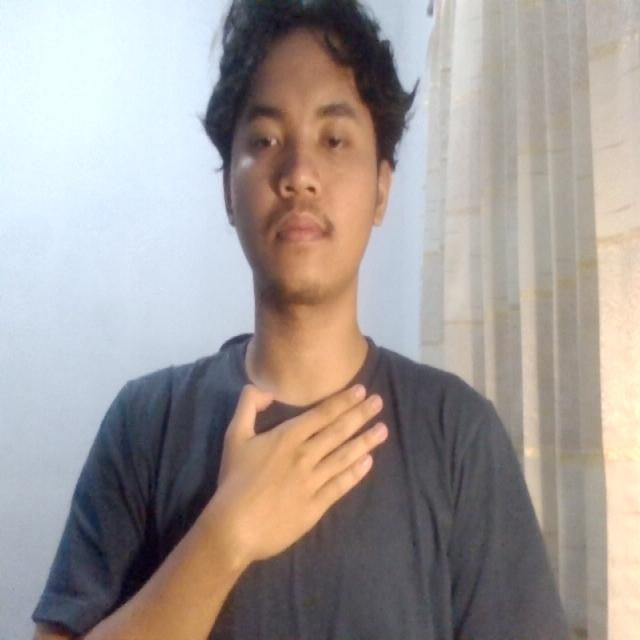Nama: (199, 363, 402, 572)
